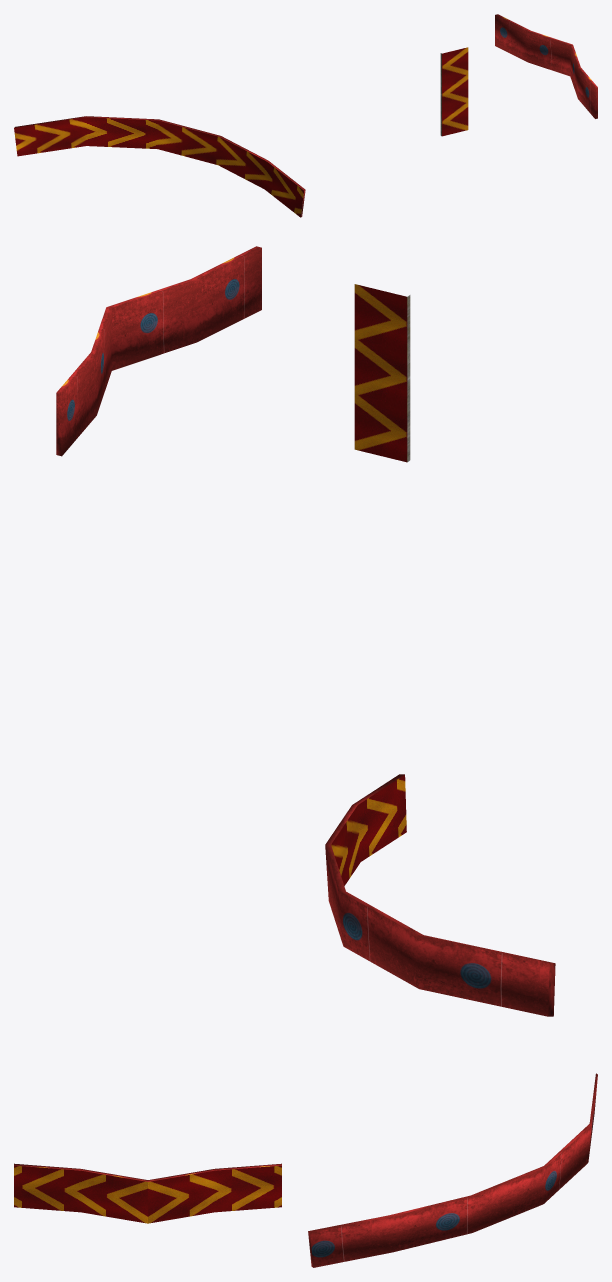
File: arrows.glb
3 views of the same model, one above another, from view 1: azimuth 30°, elevation 25°; view 2: azimuth 150°, elevation 25°; view 3: azimuth 270°, elevation 25° (orthographic). The views are drawn at different scales.
Parts seen in each view (by area): view 1: arrows.jpg__, columnred.png__; view 2: columnred.png__, arrows.jpg__; view 3: columnred.png__, arrows.jpg__.
Boxes of the visible parts, left/top/right/bottom form: arrows.jpg__: left=14, top=47, right=468, bottom=217; columnred.png__: left=14, top=14, right=597, bottom=217; columnred.png__: left=56, top=246, right=555, bottom=1016; arrows.jpg__: left=331, top=284, right=407, bottom=885; columnred.png__: left=14, top=1073, right=597, bottom=1267; arrows.jpg__: left=14, top=1165, right=281, bottom=1223.
Bounding box in the file's own units: 50.79 × 24.7 × 48.94.
Materials: 3 (3 with a texture image).
